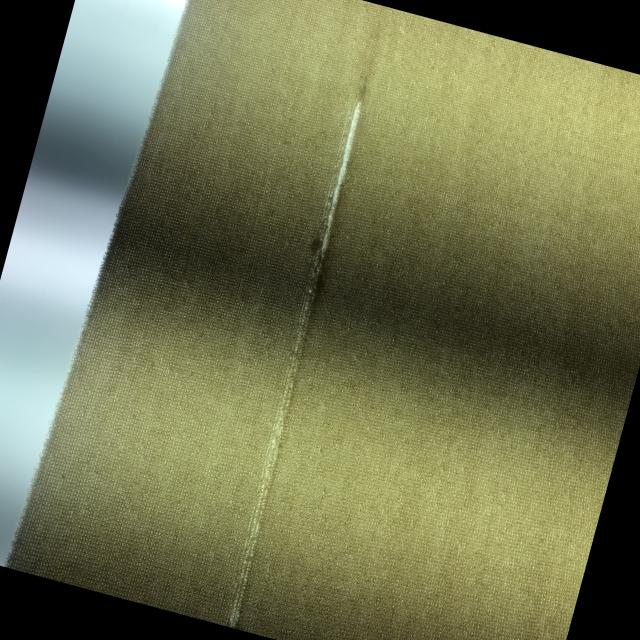Warp_Weft: (210, 81, 382, 628)
